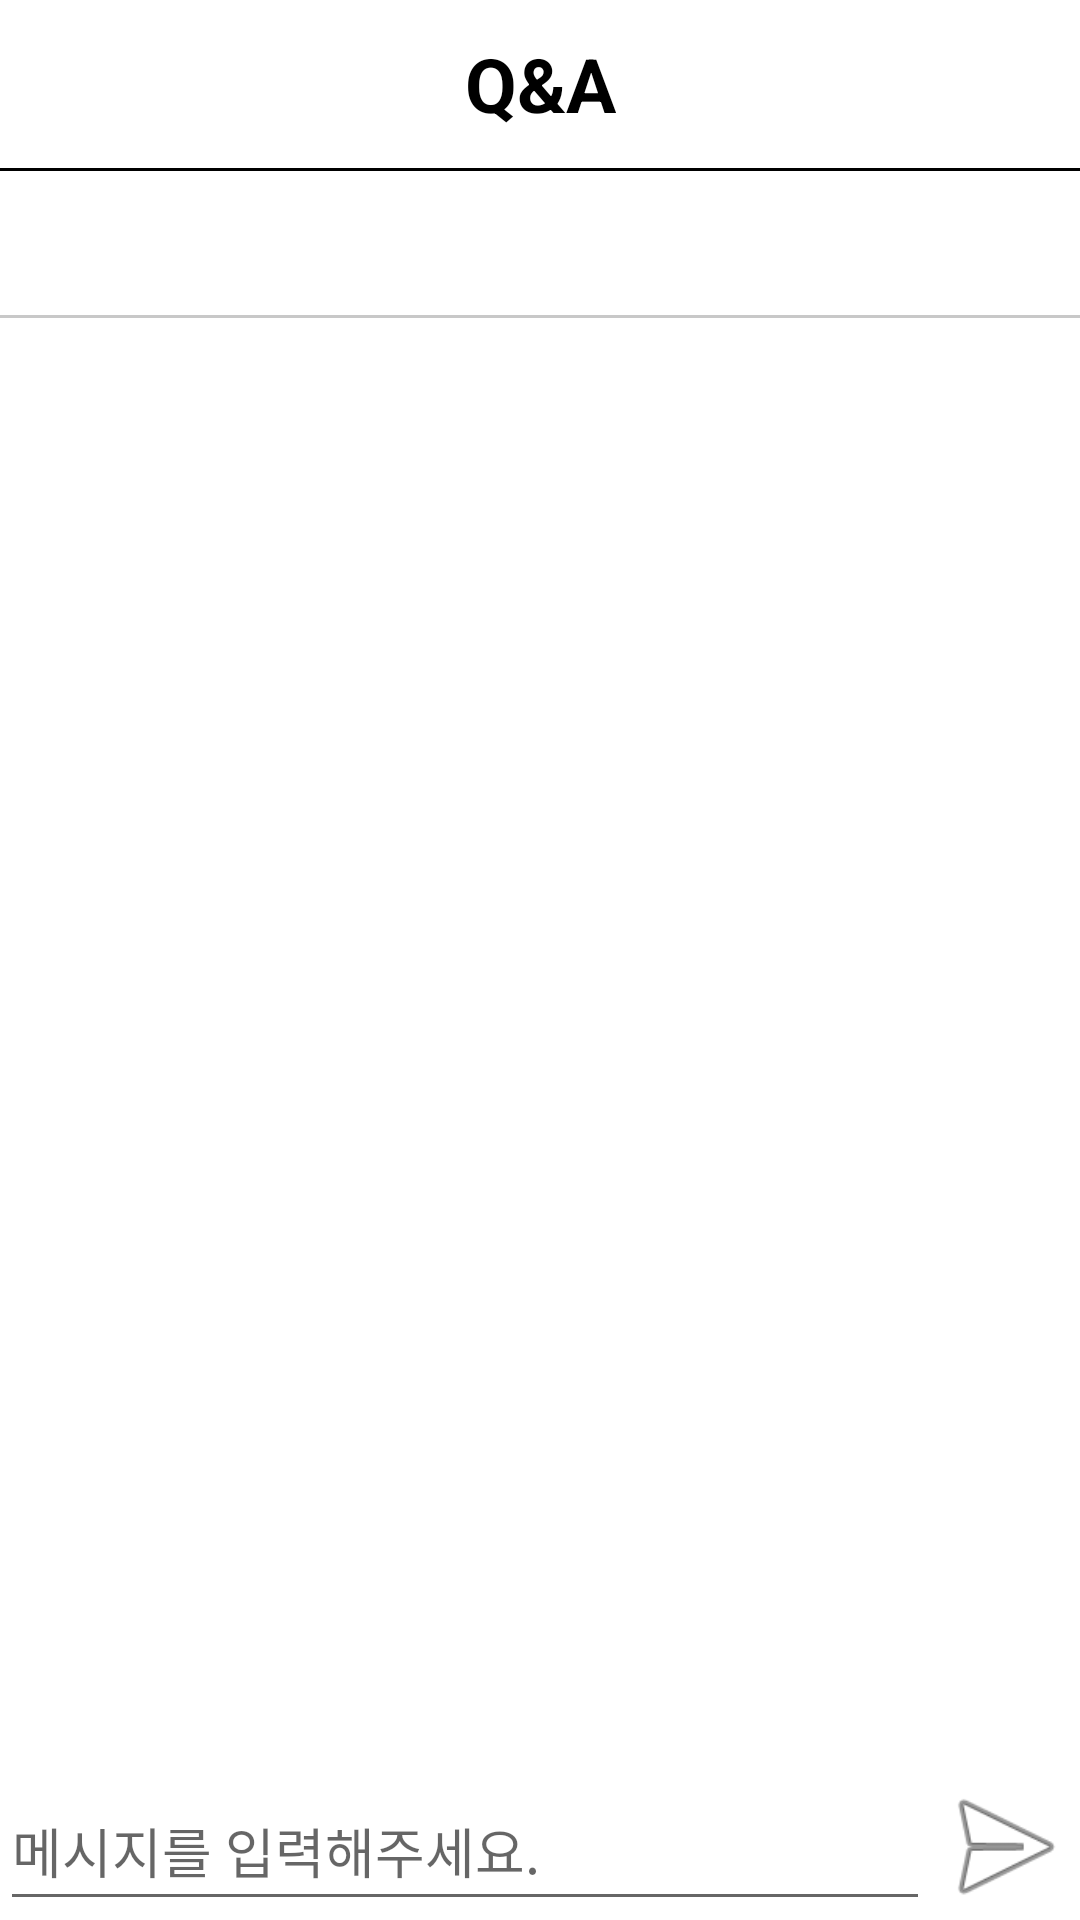

Named icons in this screenshot (1080×1920) and their centers, point (x, y):
send: point (1006, 1846)
